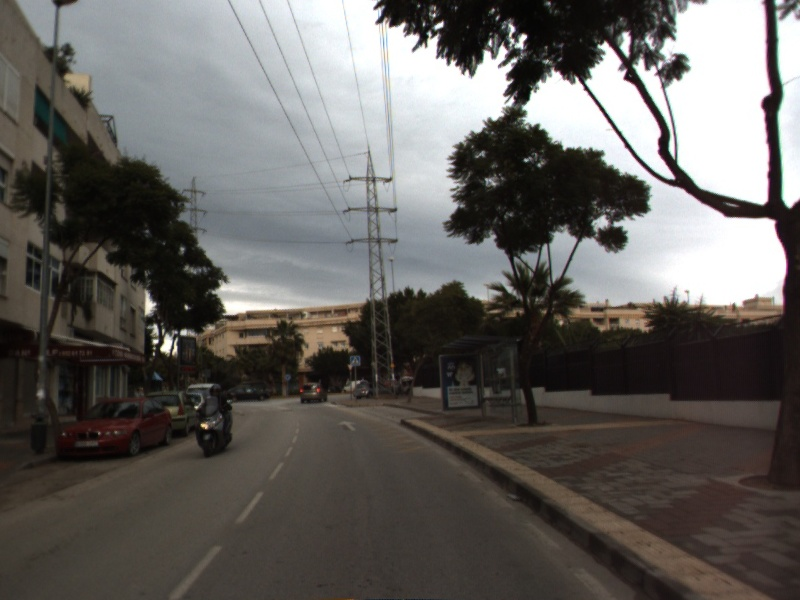STRAIGHT: (335, 418, 359, 433)
